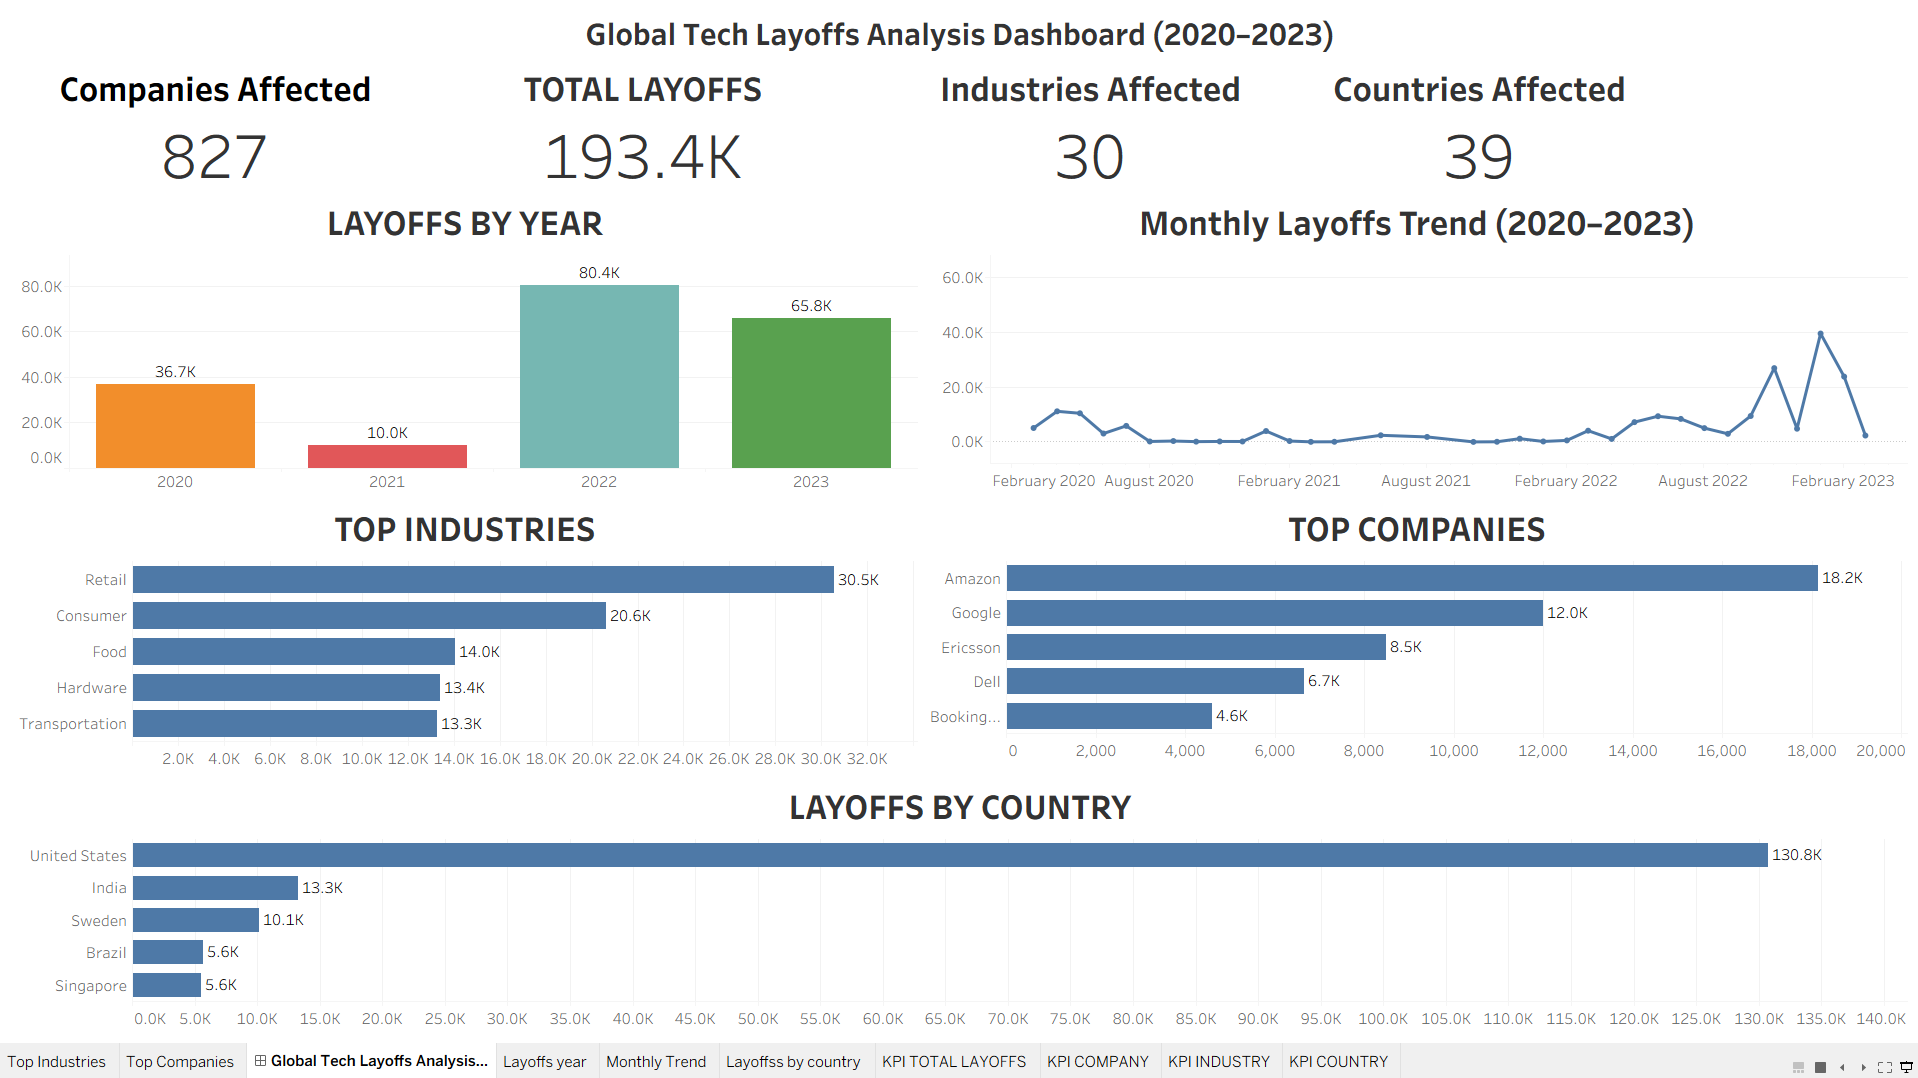

Layout of this report page (visuals, bound fields, positions):
{"tool":"tableau","page":{"name":"Global Tech Layoffs Analysis Dashboard (2020–2023)","canvas":[1000,1000],"units":"permille","ordinal":0},"visuals":[{"type":"title","box":[4.7,9.4,990.5,57.6]},{"type":"worksheet","title":"KPI COMPANY","mark":"Automatic","box":[4.7,67,245.1,157.5]},{"type":"worksheet","title":"KPI TOTAL LAYOFFS","mark":"Automatic","box":[249.9,67,259.9,157.5]},{"type":"worksheet","title":"KPI INDUSTRY","mark":"Automatic","box":[509.8,67,268.8,157.5]},{"type":"worksheet","title":"KPI COUNTRY","mark":"Automatic","box":[778.5,67,190.8,157.5]},{"type":"worksheet","title":"Layoffs year","mark":"Bar","rows":["total_laid_off"],"cols":["date"],"box":[4.7,224.4,475.4,258.3]},{"type":"worksheet","title":"Monthly Trend","mark":"Line","rows":["total_laid_off"],"cols":["date"],"box":[480.1,224.4,515.2,258.3]},{"type":"worksheet","title":"Top Industries","mark":"Automatic","rows":["industry"],"cols":["total_laid_off"],"box":[4.7,482.8,475.4,262.1]},{"type":"worksheet","title":"Top Companies","mark":"Automatic","rows":["company"],"cols":["total_laid_off"],"box":[480.1,482.8,515.1,262.1]},{"type":"worksheet","title":"Layoffss by country","mark":"Automatic","rows":["country"],"cols":["total_laid_off"],"box":[4.7,744.9,990.5,245.7]}]}

Visuals, with their boxes on the dashboard's canvas, which has no fixed pixel size, in thousandths of its width and height (x1, y1, x2, y2). These are canvas units, not pixel positions in the 1918x1078 screenshot, which may show the page scaled, cropped or inside an application window:
title: pyautogui.locateOnScreen(5, 9, 995, 67)
"KPI COMPANY" worksheet: pyautogui.locateOnScreen(5, 67, 250, 224)
"KPI TOTAL LAYOFFS" worksheet: pyautogui.locateOnScreen(250, 67, 510, 224)
"KPI INDUSTRY" worksheet: pyautogui.locateOnScreen(510, 67, 779, 224)
"KPI COUNTRY" worksheet: pyautogui.locateOnScreen(778, 67, 969, 224)
"Layoffs year" worksheet (Bar marks): pyautogui.locateOnScreen(5, 224, 480, 483)
"Monthly Trend" worksheet (Line marks): pyautogui.locateOnScreen(480, 224, 995, 483)
"Top Industries" worksheet: pyautogui.locateOnScreen(5, 483, 480, 745)
"Top Companies" worksheet: pyautogui.locateOnScreen(480, 483, 995, 745)
"Layoffss by country" worksheet: pyautogui.locateOnScreen(5, 745, 995, 991)
